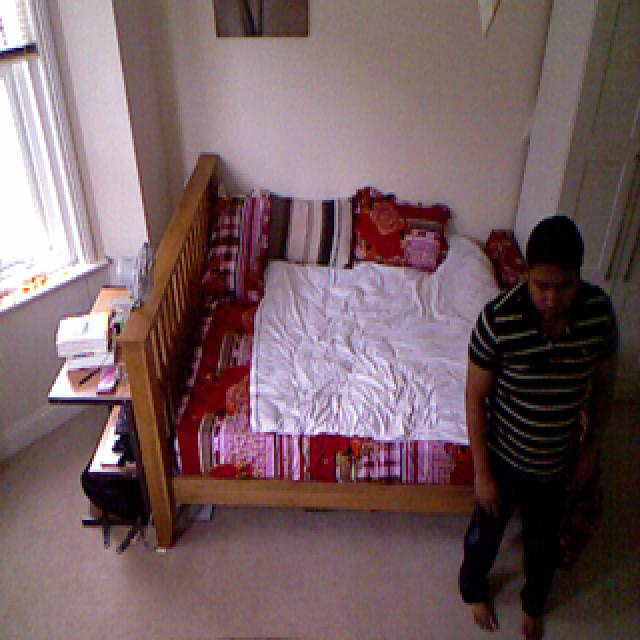standing: (451, 212, 621, 640)
